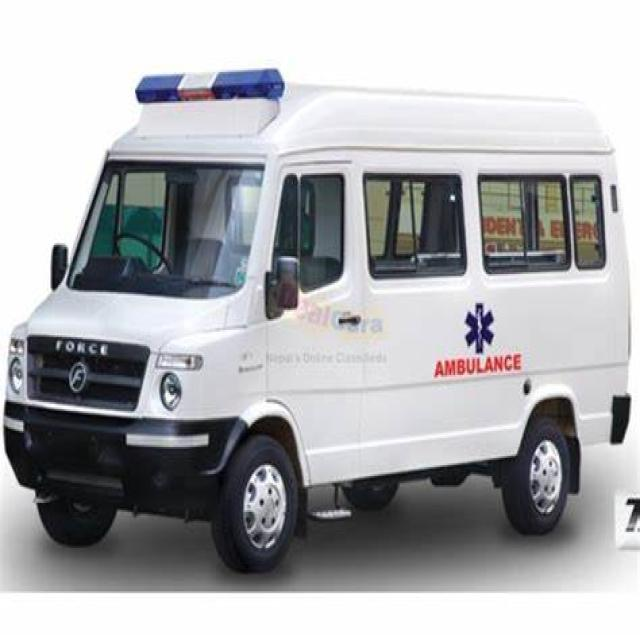ambulance: (129, 54, 295, 122)
